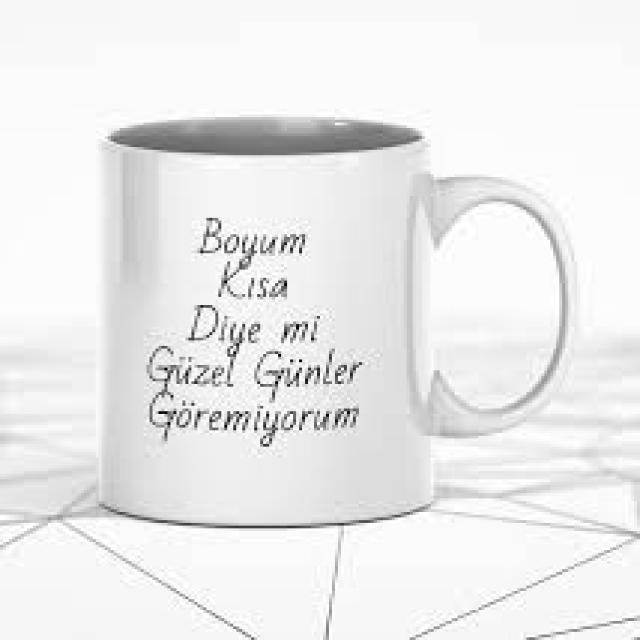taza: (100, 113, 580, 532)
